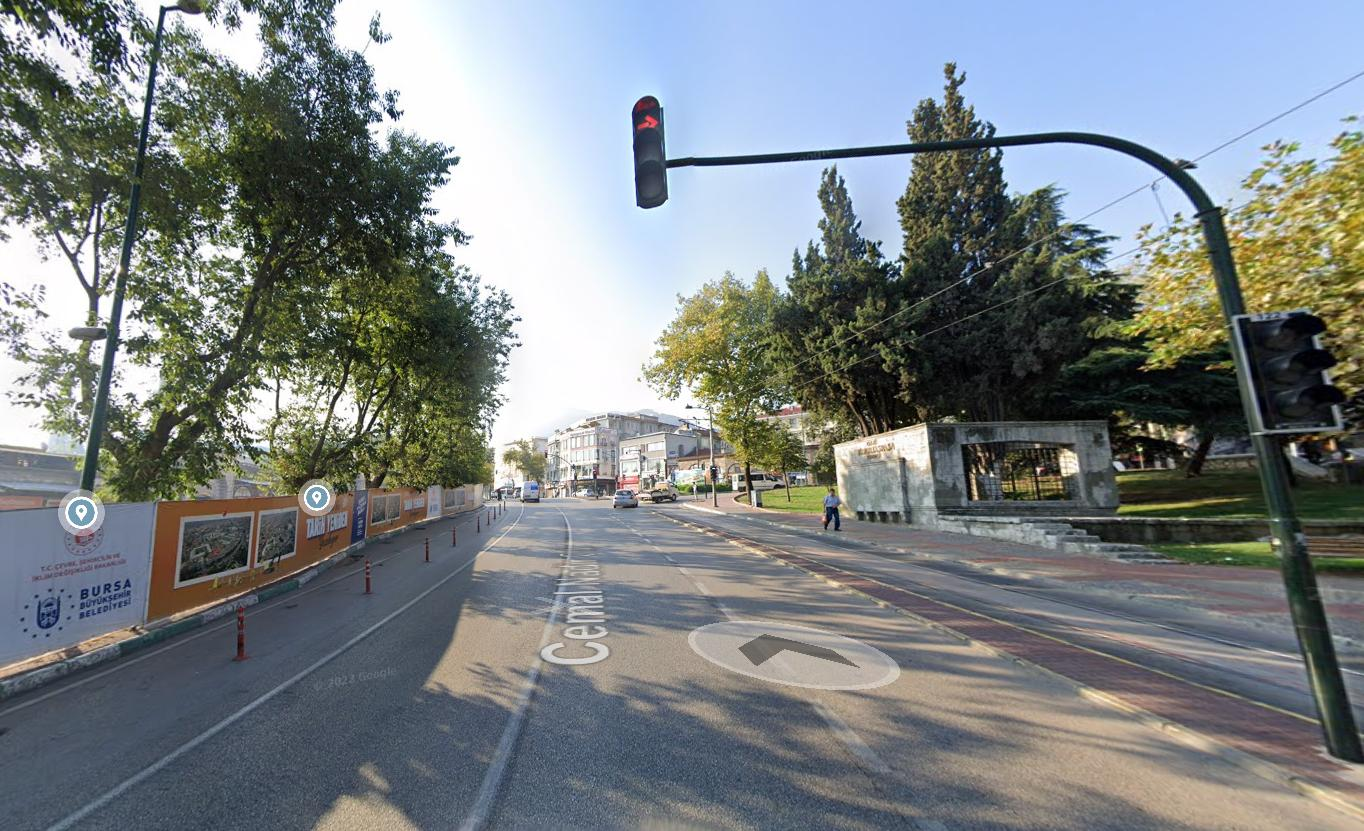redlight: (627, 86, 675, 220)
